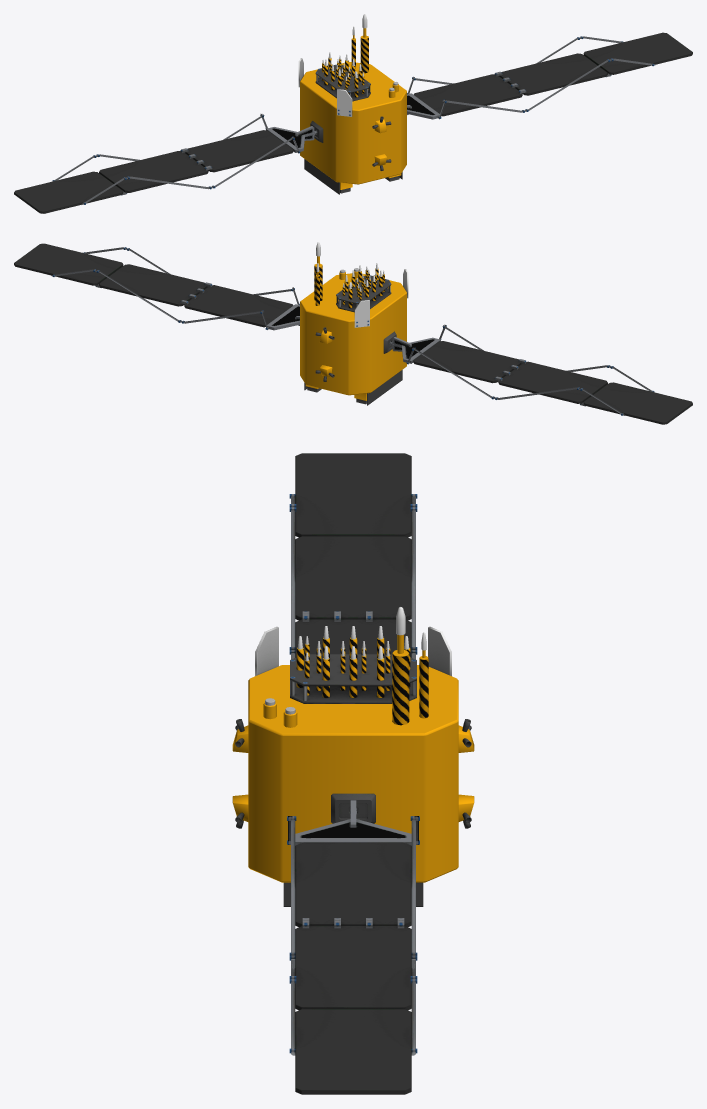
The model's file is satellite.glb.
3 renders of one model, top to bottom at view 1: azimuth 30°, elevation 25°; view 2: azimuth 150°, elevation 25°; view 3: azimuth 270°, elevation 25°, orthographic. The views are drawn at different scales.
Visible parts, largest first — view 1: SolarPanels, Satellite; view 2: SolarPanels, Satellite; view 3: SolarPanels, Satellite.
Part boxes in pixels (bbox=[...]): SolarPanels: bbox=[14, 32, 692, 213]; Satellite: bbox=[298, 14, 406, 194]; SolarPanels: bbox=[14, 243, 692, 424]; Satellite: bbox=[300, 242, 408, 405]; SolarPanels: bbox=[287, 453, 419, 1094]; Satellite: bbox=[232, 607, 474, 906].
Bounding box in the file's own units: 9.09 × 1.94 × 1.45.
2 materials, 2 textured.
